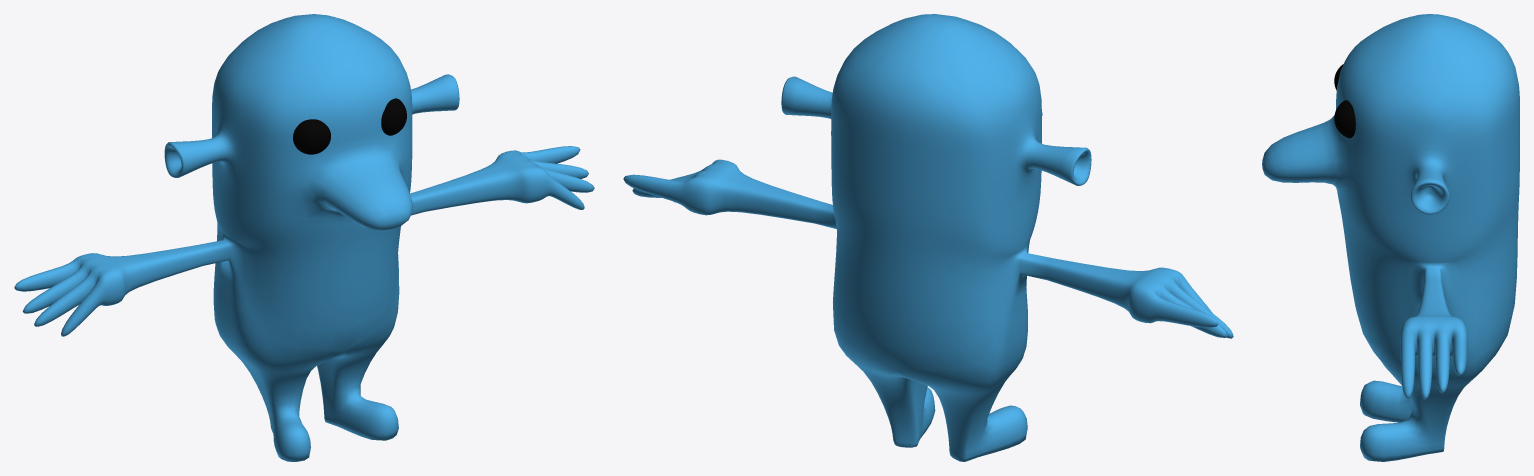
Rendered from blue_alien_sub2.fbx.
3 views of the same model, side by side, from view 1: azimuth 30°, elevation 25°; view 2: azimuth 150°, elevation 25°; view 3: azimuth 270°, elevation 25° (orthographic). The views are drawn at different scales.
Parts seen in each view (by area): view 1: Blue_alien; view 2: Blue_alien; view 3: Blue_alien.
Part boxes in pixels (x1=…): Blue_alien: x1=14, y1=14, x2=594, y2=461; Blue_alien: x1=623, y1=14, x2=1233, y2=461; Blue_alien: x1=1262, y1=14, x2=1519, y2=461.
Size of the model in its own units: 192 by 132 by 74.48.
